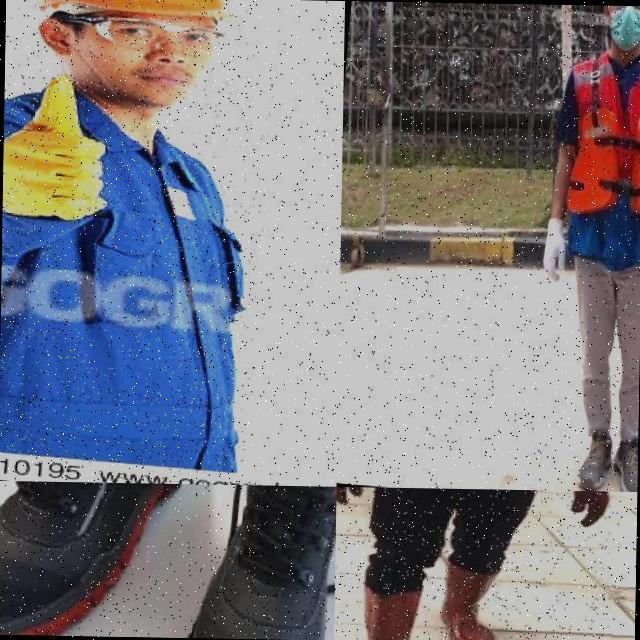boots: (0, 480, 221, 638), (179, 483, 336, 640), (435, 562, 506, 640), (350, 584, 420, 640), (572, 424, 616, 492), (607, 430, 638, 492)
helmet: (19, 0, 264, 39)
vest: (553, 43, 640, 268)
